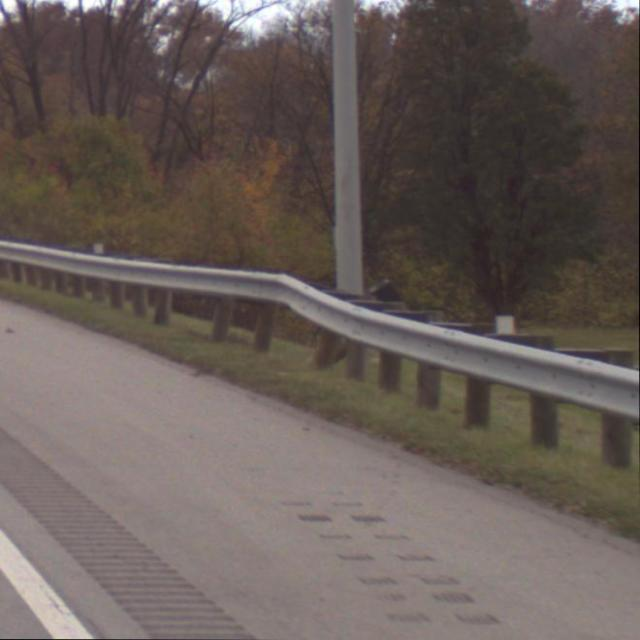Guard rail: (0, 232, 638, 472)
